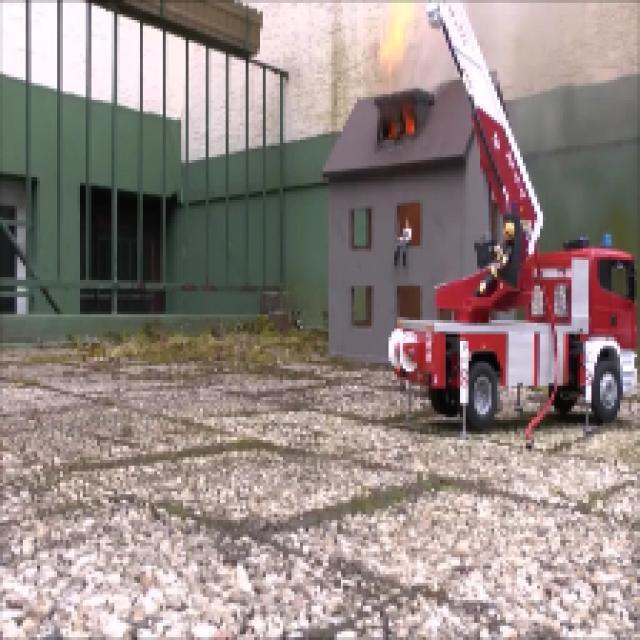Fire: (360, 5, 418, 80)
